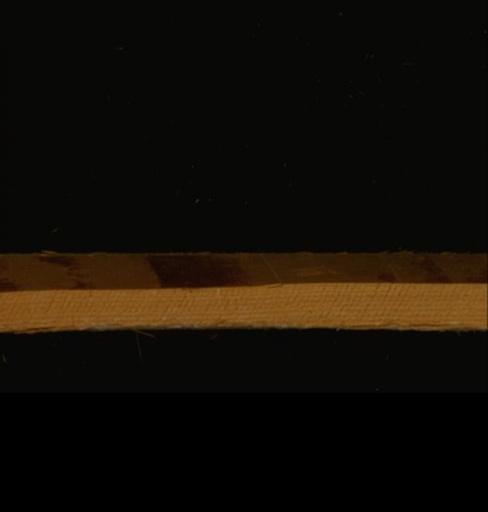wave: (0, 251, 486, 289)
